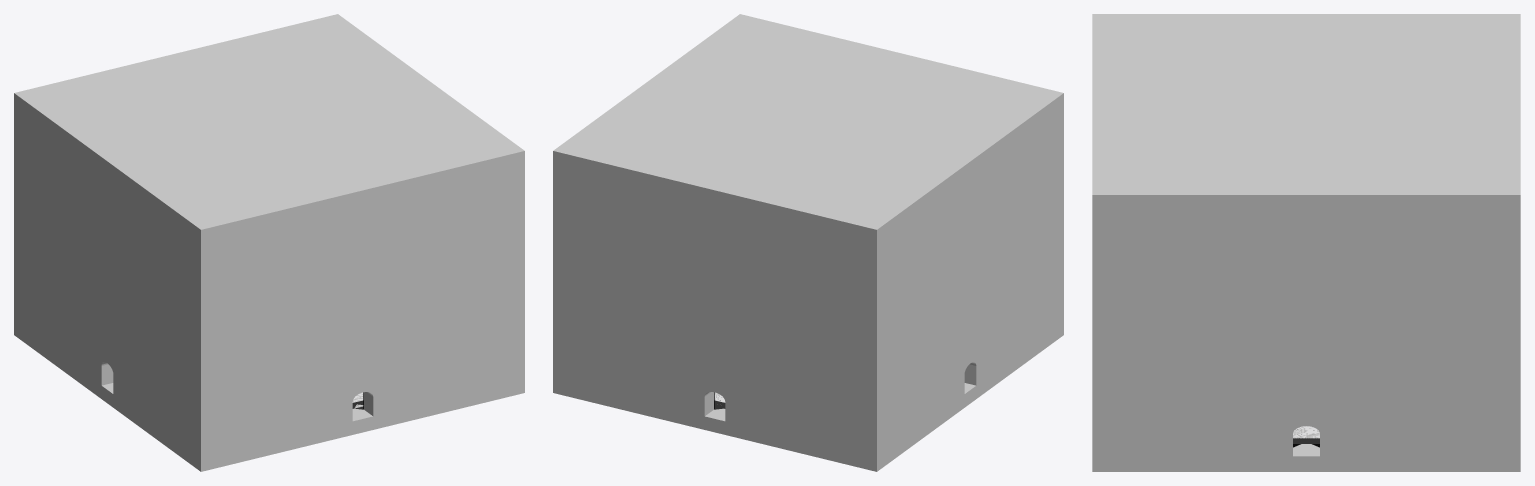
The model's file is 50Room.fbx.
3 views of the same model, side by side, from view 1: azimuth 30°, elevation 25°; view 2: azimuth 150°, elevation 25°; view 3: azimuth 270°, elevation 25° (orthographic). The views are drawn at different scales.
Visible parts, largest first — view 1: Cube, Cube.002; view 2: Cube, Cube.002; view 3: Cube, Cube.002.
Part boxes in pixels (x1,y1,x2,y2): Cube: (14,14,524,471); Cube.002: (49,28,489,214); Cube: (553,14,1063,471); Cube.002: (588,28,1028,214); Cube: (1092,14,1520,471); Cube.002: (1121,26,1491,182).
Bounding box in the file's own units: 5000 × 3571 × 5000.
